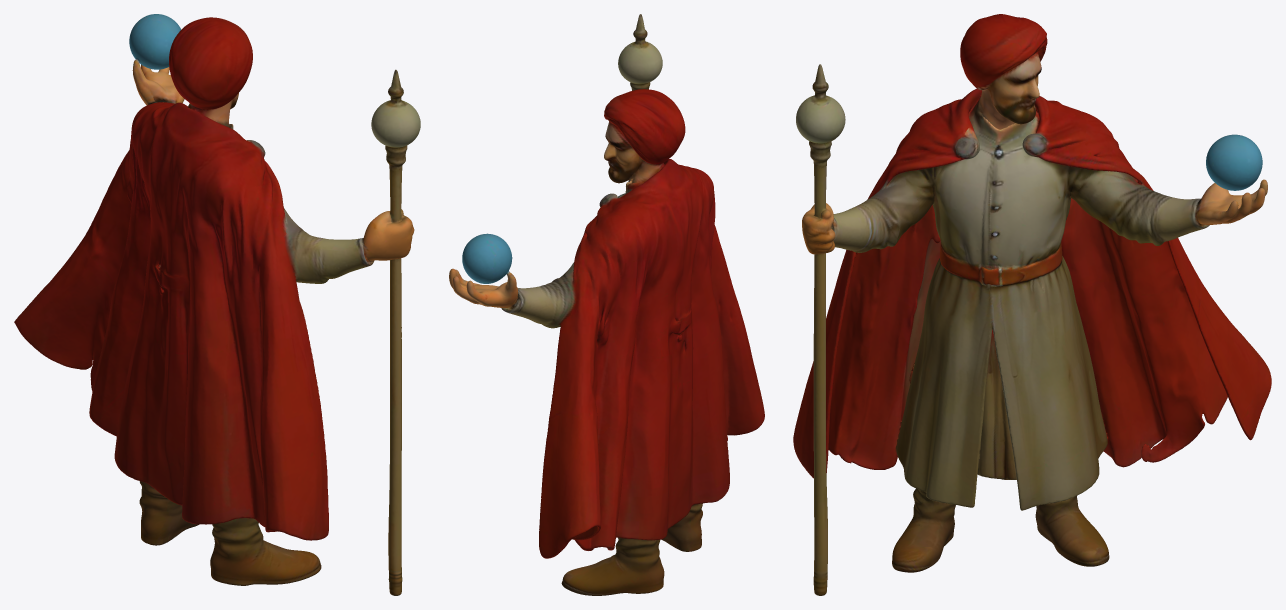
3 renders of one model, left to right at view 1: azimuth 30°, elevation 25°; view 2: azimuth 150°, elevation 25°; view 3: azimuth 270°, elevation 25°, orthographic. The views are drawn at different scales.
Visible parts, largest first — view 1: tripo_node_150eb5dc-e43b-49d7-9643-3da11182c4fe; view 2: tripo_node_150eb5dc-e43b-49d7-9643-3da11182c4fe; view 3: tripo_node_150eb5dc-e43b-49d7-9643-3da11182c4fe.
Boxes of the visible parts, left/top/right/bottom form: tripo_node_150eb5dc-e43b-49d7-9643-3da11182c4fe: left=14, top=14, right=420, bottom=595; tripo_node_150eb5dc-e43b-49d7-9643-3da11182c4fe: left=449, top=14, right=764, bottom=595; tripo_node_150eb5dc-e43b-49d7-9643-3da11182c4fe: left=793, top=14, right=1271, bottom=595.
Bounding box in the file's own units: 0.3736 × 1 × 0.8177.
1 material, 1 textured.
